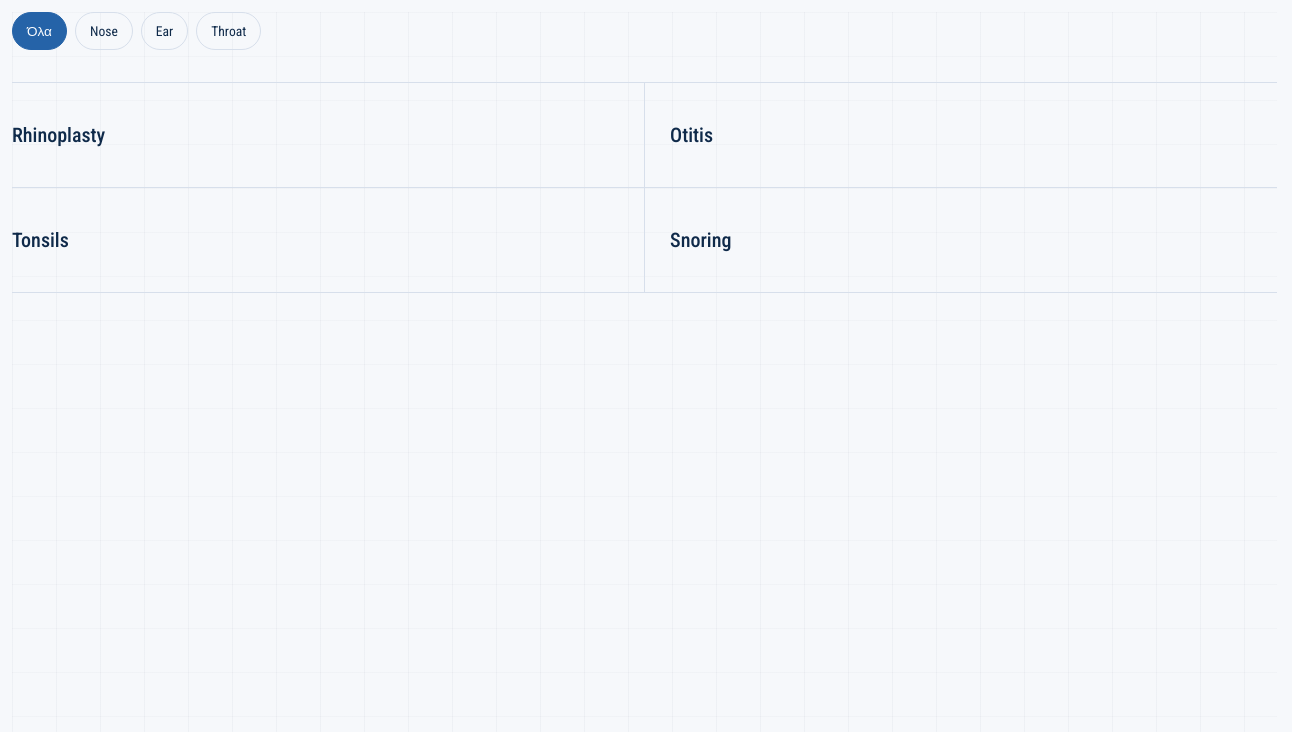
Test: SectionIndexGrid filtering › shows a localized empty state when a filter matches nothing
Click the button "Ear": [164, 31] box [141, 12, 188, 50]
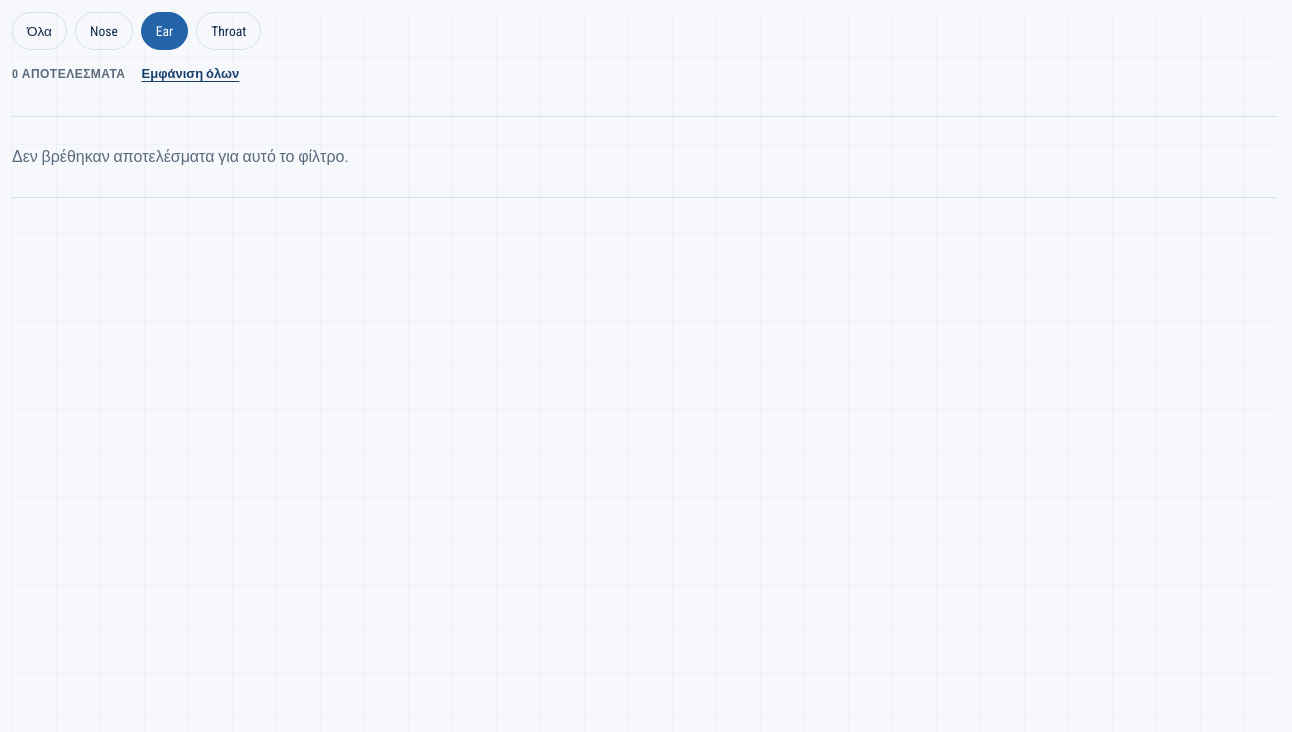
Now the text "Δεν βρέθηκαν αποτελέσματα για αυτό το φίλτρο." is shown, box [12, 145, 349, 169]
Now the link "Rhinoplasty" is gone
